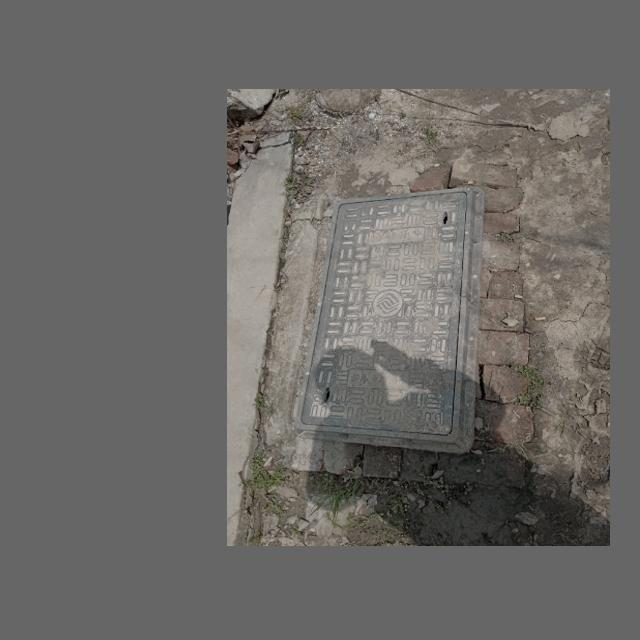good: (287, 188, 485, 444)
